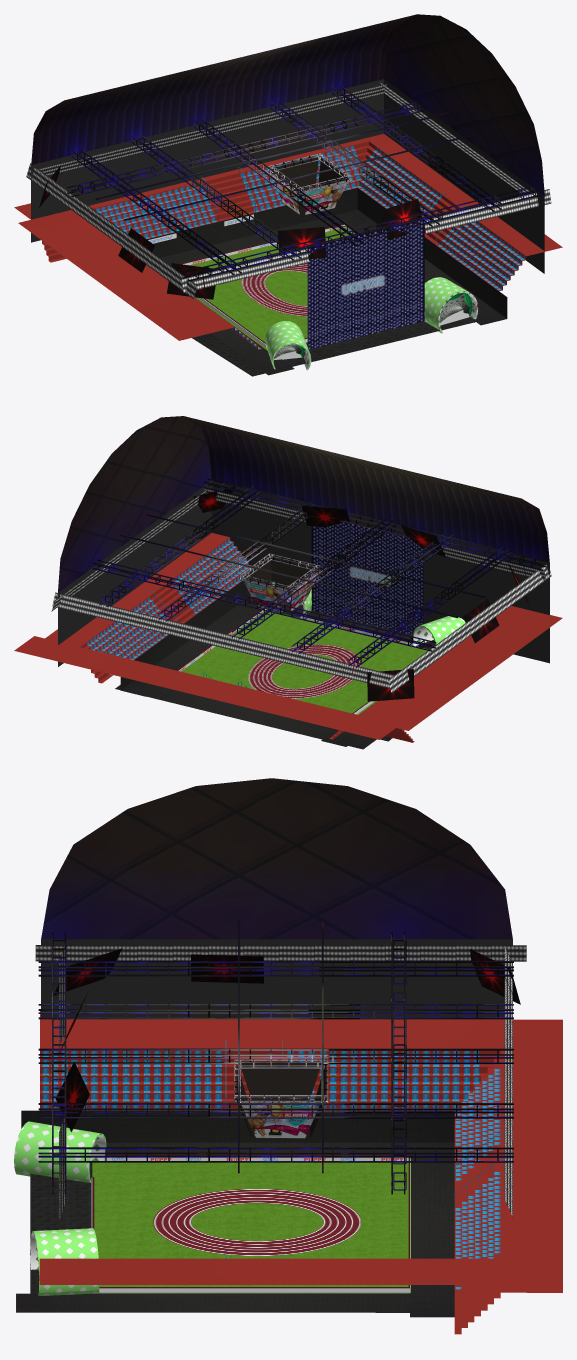
The model's file is ground.fbx.
The picture shows the model from 3 angles, top to bottom: view 1: azimuth 30°, elevation 25°; view 2: azimuth 150°, elevation 25°; view 3: azimuth 270°, elevation 25°; orthographic projection. The views are drawn at different scales.
Visible parts, largest first — view 1: polySurface553, pCylinder7, polySurface381, pPlane8, polySurface482, polySurface525, polySurface1, polySurface486, polySurface483, enter:pCylinder6, pCube93, pCube147 (+6 smaller); view 2: pCylinder7, polySurface553, polySurface381, polySurface1, pPlane8, polySurface482, polySurface525, enter:pCylinder6, pCube141, pCube147, pCube92, polySurface486 (+5 smaller); view 3: polySurface553, pCylinder7, polySurface1, polySurface482, polySurface381, polySurface525, polySurface552, enter:pCylinder6, polySurface486, polySurface483, pCube144, pCube145 (+4 smaller).
Boxes of the visible parts, x1,y1,x2,y2 form: polySurface553: (14, 134, 562, 375); pCylinder7: (31, 14, 544, 196); polySurface381: (31, 79, 544, 273); pPlane8: (307, 220, 424, 349); polySurface482: (71, 85, 501, 274); polySurface525: (67, 101, 540, 281); polySurface1: (190, 227, 354, 350); polySurface486: (192, 317, 475, 376); polySurface483: (424, 277, 478, 333); enter:pCylinder6: (265, 321, 311, 370); pCube93: (278, 227, 326, 260); pCube147: (301, 179, 348, 214); pCylinder7: (58, 416, 549, 592); polySurface553: (14, 533, 562, 749); polySurface381: (58, 481, 549, 666); polySurface1: (181, 609, 428, 714); pPlane8: (311, 522, 423, 635); polySurface482: (99, 486, 510, 667); polySurface525: (93, 478, 546, 651); enter:pCylinder6: (413, 616, 465, 645); pCube141: (367, 669, 414, 701); pCube147: (271, 557, 316, 594); pCube92: (301, 505, 349, 527); polySurface486: (267, 602, 435, 741); polySurface553: (16, 1011, 562, 1334); pCylinder7: (41, 778, 512, 939); polySurface1: (92, 1159, 410, 1292); polySurface482: (38, 961, 513, 1162); polySurface381: (41, 939, 512, 1017); polySurface525: (52, 919, 406, 1194); polySurface552: (91, 1155, 410, 1293); enter:pCylinder6: (14, 1121, 106, 1182); polySurface486: (30, 1162, 409, 1293); polySurface483: (30, 1228, 99, 1295); pCube144: (239, 1063, 321, 1100); pCube145: (239, 1100, 321, 1138).
Size of the model in its own units: 1.02 by 0.5443 by 0.8407.
